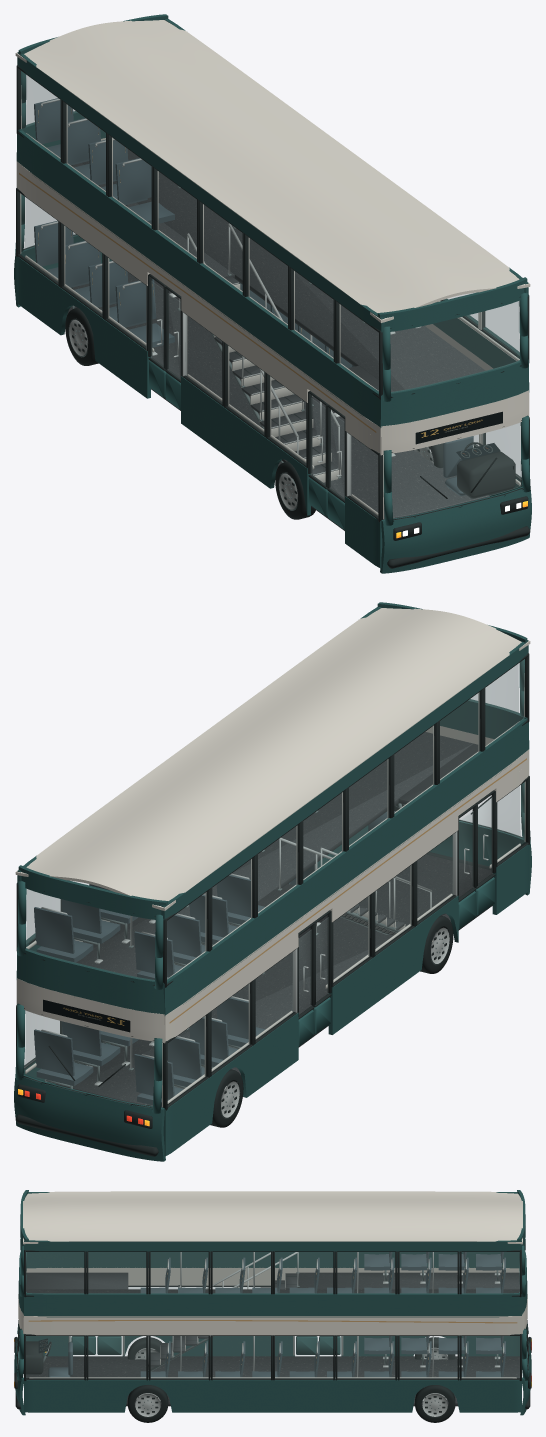
The model's file is serein-d11-lod0.glb.
3 views of the same model, one above another, from view 1: azimuth 30°, elevation 25°; view 2: azimuth 150°, elevation 25°; view 3: azimuth 270°, elevation 25° (orthographic). The views are drawn at different scales.
Parts seen in each view (by area): view 1: LOD0-bus-detail-0-pearl-batch, LOD0-bus-detail-0-paint-batch, LOD0-bus-detail-0-glass-batch, LOD0-bus-detail-0-floor-batch, LOD0-bus-detail-0-dark-batch, LOD0-bus-detail-0-cloth-batch, LOD0-bus-detail-0-interior-batch, LOD0-bus-detail-0-metal-batch, LOD0-bus-detail-0-display-batch, LOD0-bus-door-0-port-leaf--1-glass-batch, LOD0-bus-door-0-port-leaf-1-glass-batch, LOD0-wheel-front--1-dark-batch (+6 smaller); view 2: LOD0-bus-detail-0-pearl-batch, LOD0-bus-detail-0-paint-batch, LOD0-bus-detail-0-glass-batch, LOD0-bus-detail-0-floor-batch, LOD0-bus-detail-0-cloth-batch, LOD0-bus-detail-0-dark-batch, LOD0-bus-detail-0-interior-batch, LOD0-bus-detail-0-metal-batch, LOD0-bus-door-0-port-leaf--1-glass-batch, LOD0-bus-door-0-port-leaf-1-glass-batch, LOD0-bus-detail-0-steel-batch, LOD0-bus-detail-0-display-batch (+6 smaller); view 3: LOD0-bus-detail-0-paint-batch, LOD0-bus-detail-0-glass-batch, LOD0-bus-detail-0-pearl-batch, LOD0-bus-detail-0-floor-batch, LOD0-bus-detail-0-cloth-batch, LOD0-bus-detail-0-dark-batch, LOD0-bus-detail-0-metal-batch, LOD0-bus-detail-0-interior-batch, LOD0-wheel-rear-1-dark-batch, LOD0-wheel-front-1-dark-batch, LOD0-bus-detail-0-livery-batch, LOD0-wheel-front-1-metal-batch (+7 smaller).
Boxes of the visible parts, x1=… form: LOD0-bus-detail-0-pearl-batch: x1=15, y1=20, x2=530, y2=455; LOD0-bus-detail-0-paint-batch: x1=14, y1=14, x2=531, y2=573; LOD0-bus-detail-0-glass-batch: x1=20, y1=72, x2=521, y2=517; LOD0-bus-detail-0-floor-batch: x1=67, y1=149, x2=489, y2=530; LOD0-bus-detail-0-dark-batch: x1=16, y1=65, x2=530, y2=568; LOD0-bus-detail-0-cloth-batch: x1=34, y1=98, x2=473, y2=495; LOD0-bus-detail-0-interior-batch: x1=20, y1=85, x2=520, y2=519; LOD0-bus-detail-0-metal-batch: x1=41, y1=98, x2=473, y2=496; LOD0-bus-detail-0-display-batch: x1=415, y1=411, x2=502, y2=460; LOD0-bus-door-0-port-leaf--1-glass-batch: x1=311, y1=398, x2=325, y2=484; LOD0-bus-door-0-port-leaf-1-glass-batch: x1=330, y1=412, x2=344, y2=498; LOD0-wheel-front--1-dark-batch: x1=275, y1=461, x2=315, y2=519; LOD0-bus-detail-0-pearl-batch: x1=15, y1=608, x2=530, y2=1043; LOD0-bus-detail-0-paint-batch: x1=14, y1=602, x2=531, y2=1161; LOD0-bus-detail-0-glass-batch: x1=24, y1=660, x2=525, y2=1105; LOD0-bus-detail-0-floor-batch: x1=56, y1=732, x2=492, y2=1105; LOD0-bus-detail-0-cloth-batch: x1=34, y1=811, x2=395, y2=1107; LOD0-bus-detail-0-dark-batch: x1=15, y1=653, x2=529, y2=1156; LOD0-bus-detail-0-interior-batch: x1=25, y1=673, x2=525, y2=1107; LOD0-bus-detail-0-metal-batch: x1=41, y1=804, x2=492, y2=1090; LOD0-bus-door-0-port-leaf--1-glass-batch: x1=459, y1=811, x2=473, y2=898; LOD0-bus-door-0-port-leaf-1-glass-batch: x1=478, y1=797, x2=492, y2=884; LOD0-bus-detail-0-steel-batch: x1=44, y1=803, x2=432, y2=1106; LOD0-bus-detail-0-display-batch: x1=43, y1=999, x2=130, y2=1032; LOD0-bus-detail-0-paint-batch: x1=14, y1=1190, x2=531, y2=1415; LOD0-bus-detail-0-glass-batch: x1=18, y1=1252, x2=527, y2=1378; LOD0-bus-detail-0-pearl-batch: x1=18, y1=1191, x2=527, y2=1335; LOD0-bus-detail-0-floor-batch: x1=26, y1=1272, x2=519, y2=1406; LOD0-bus-detail-0-cloth-batch: x1=48, y1=1252, x2=505, y2=1387; LOD0-bus-detail-0-dark-batch: x1=14, y1=1250, x2=531, y2=1409; LOD0-bus-detail-0-metal-batch: x1=47, y1=1252, x2=504, y2=1401; LOD0-bus-detail-0-interior-batch: x1=29, y1=1274, x2=516, y2=1378; LOD0-wheel-rear-1-dark-batch: x1=415, y1=1385, x2=455, y2=1422; LOD0-wheel-front-1-dark-batch: x1=127, y1=1385, x2=168, y2=1422; LOD0-bus-detail-0-livery-batch: x1=28, y1=1265, x2=517, y2=1364; LOD0-wheel-front-1-metal-batch: x1=135, y1=1393, x2=160, y2=1416.
Bounding box in the file's own units: 2.54 × 4.4 × 10.99.
Materials: 14 (4 with a texture image).
